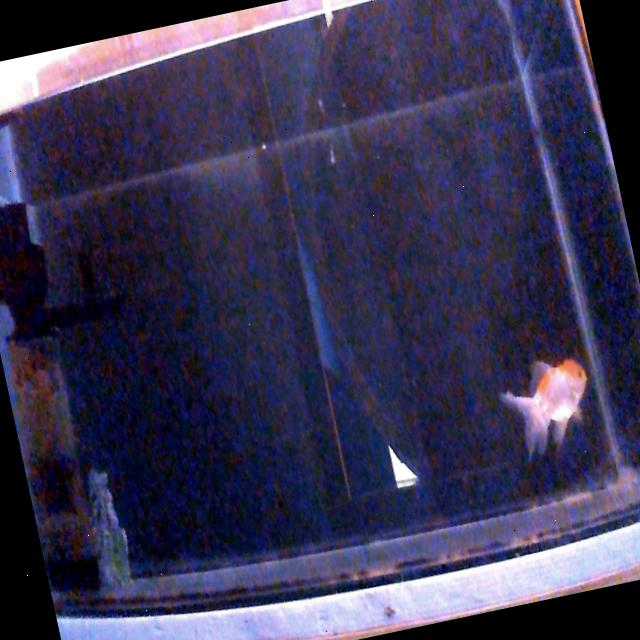fish: (494, 351, 604, 466)
